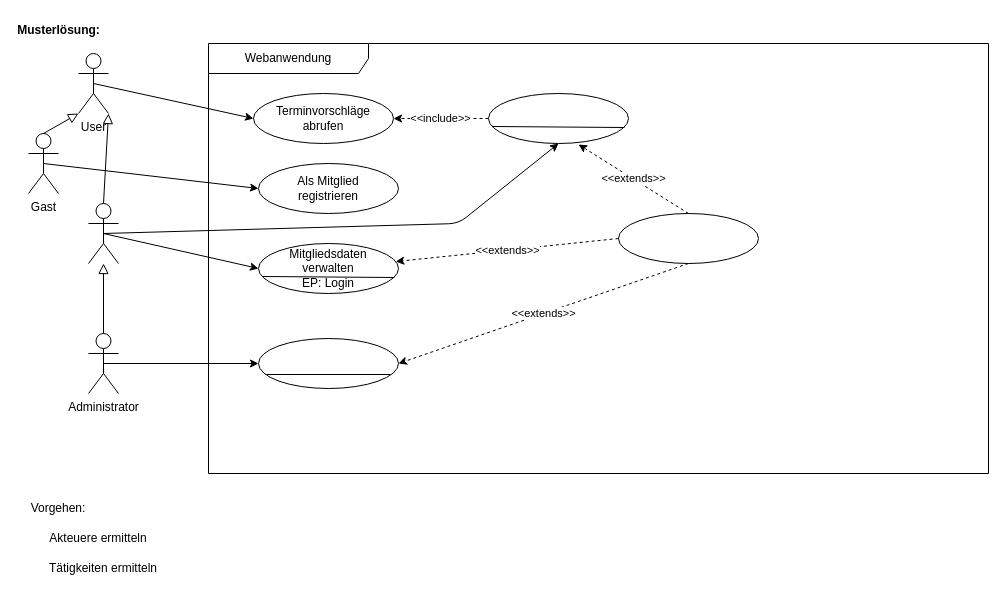
Some shapes in this 1006 by 600 pixel diagram are drawn without their labels. The box of each missing label's shape, as (x1, y1, x2, y2) in pixels:
DL buchen EP: Login: (488, 92, 628, 144)
DL verwalten EP: Login: (258, 338, 398, 388)
Login: (618, 212, 758, 264)
Mitglied: (88, 202, 118, 264)
